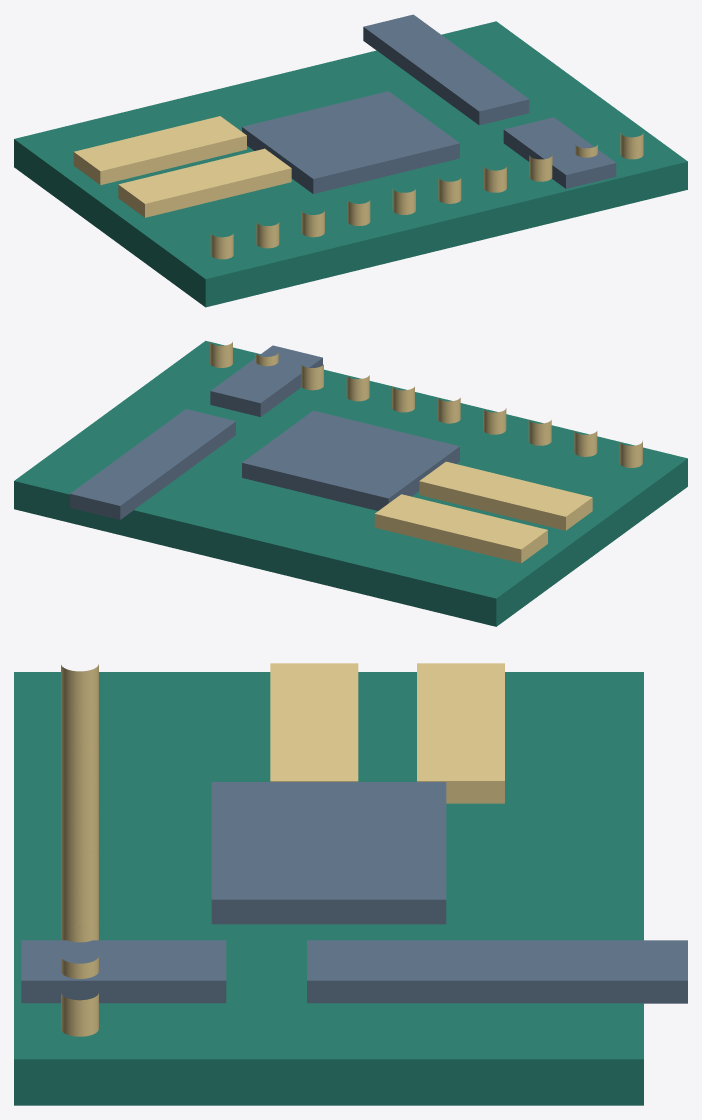
Rendered from placa-base.gltf.
3 views of the same model, one above another, from view 1: azimuth 30°, elevation 25°; view 2: azimuth 150°, elevation 25°; view 3: azimuth 270°, elevation 25° (orthographic). The views are drawn at different scales.
Visible parts, largest first — view 1: Parte_1, Parte_2, Parte_5, Parte_3, Parte_4, Parte_6, Parte_16, Parte_7, Parte_11, Parte_8, Parte_9, Parte_12 (+3 smaller); view 2: Parte_1, Parte_2, Parte_5, Parte_3, Parte_4, Parte_6, Parte_7, Parte_8, Parte_10, Parte_11, Parte_13, Parte_9 (+3 smaller); view 3: Parte_1, Parte_2, Parte_5, Parte_6, Parte_3, Parte_4, Parte_10, Parte_12, Parte_13, Parte_8, Parte_11, Parte_7 (+2 smaller).
Part boxes in pixels (bbox=[...]): Parte_1: bbox=[14, 21, 687, 307]; Parte_2: bbox=[242, 91, 459, 193]; Parte_5: bbox=[363, 14, 529, 125]; Parte_3: bbox=[73, 116, 246, 185]; Parte_4: bbox=[118, 148, 291, 217]; Parte_6: bbox=[503, 117, 616, 188]; Parte_16: bbox=[620, 132, 643, 159]; Parte_7: bbox=[210, 233, 233, 259]; Parte_11: bbox=[392, 188, 415, 214]; Parte_8: bbox=[256, 222, 279, 248]; Parte_9: bbox=[301, 211, 324, 237]; Parte_12: bbox=[438, 178, 461, 203]; Parte_1: bbox=[14, 340, 687, 626]; Parte_2: bbox=[242, 410, 459, 510]; Parte_5: bbox=[70, 409, 235, 519]; Parte_3: bbox=[374, 494, 547, 563]; Parte_4: bbox=[419, 461, 592, 530]; Parte_6: bbox=[210, 345, 322, 416]; Parte_7: bbox=[619, 441, 642, 467]; Parte_8: bbox=[574, 431, 597, 456]; Parte_10: bbox=[483, 408, 506, 434]; Parte_11: bbox=[437, 397, 460, 423]; Parte_13: bbox=[346, 375, 369, 401]; Parte_9: bbox=[528, 420, 551, 445]; Parte_1: bbox=[14, 672, 643, 1105]; Parte_2: bbox=[211, 782, 446, 924]; Parte_5: bbox=[307, 940, 687, 1003]; Parte_6: bbox=[21, 940, 226, 1003]; Parte_3: bbox=[417, 663, 504, 803]; Parte_4: bbox=[270, 663, 358, 781]; Parte_10: bbox=[61, 774, 98, 817]; Parte_12: bbox=[61, 847, 98, 890]; Parte_13: bbox=[61, 883, 98, 926]; Parte_8: bbox=[61, 701, 98, 744]; Parte_11: bbox=[61, 810, 98, 853]; Parte_7: bbox=[61, 664, 98, 707].
Bounding box in the file's own units: 1.25 × 0.1275 × 0.92.
